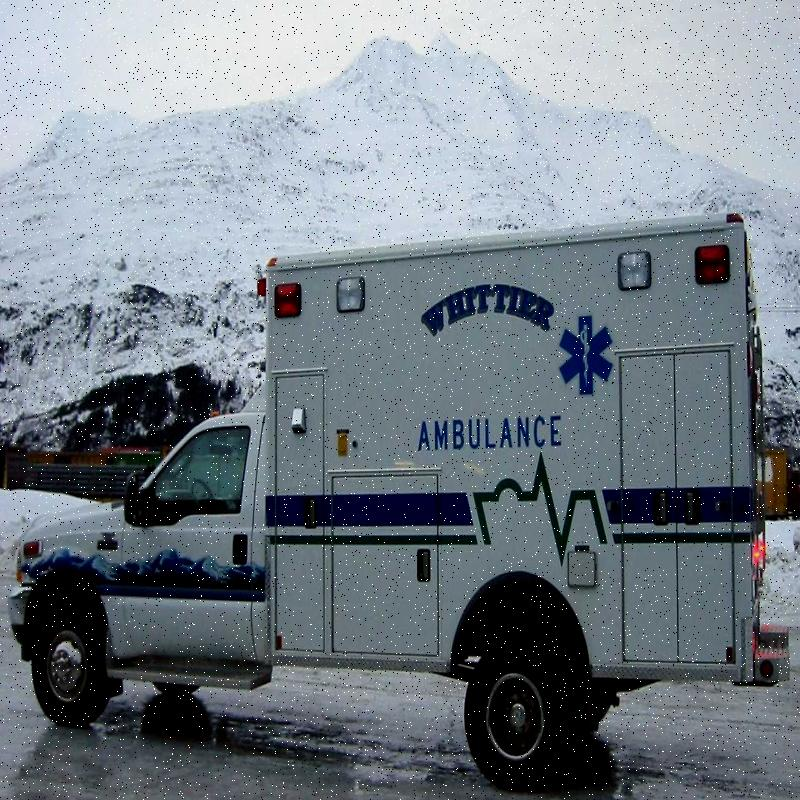AmbulanceSiren: (605, 210, 754, 313), (256, 251, 386, 334)
